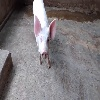heo: (30, 11, 58, 60)
